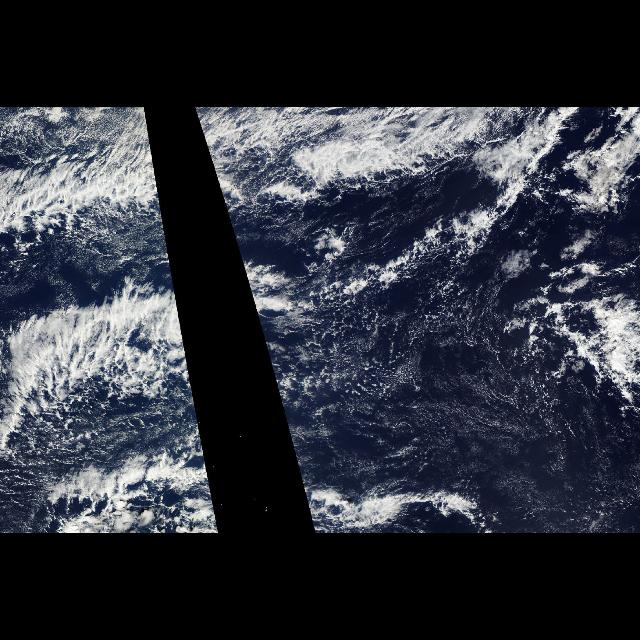Fish: (0, 255, 204, 443), (240, 255, 324, 443)
Sugar: (336, 317, 638, 533)
